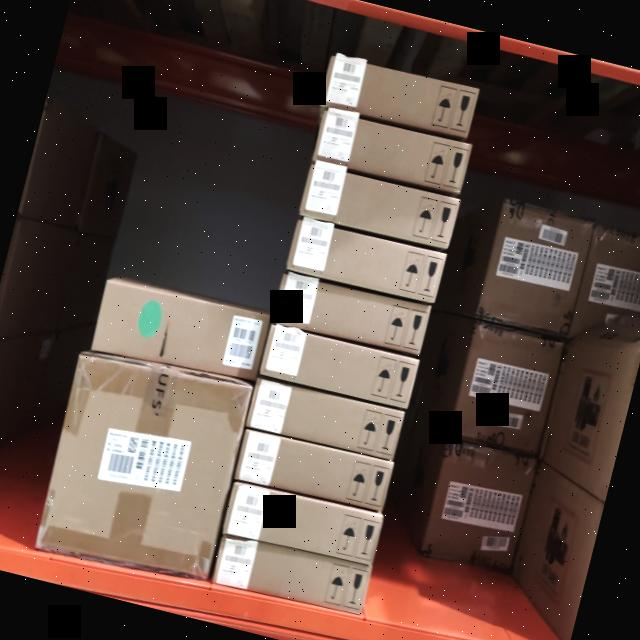box: (35, 354, 252, 584), (92, 279, 268, 378), (480, 202, 592, 334), (318, 52, 481, 140), (298, 163, 460, 250), (285, 220, 446, 302), (425, 445, 535, 563), (452, 326, 560, 446), (236, 430, 393, 512), (274, 274, 432, 354), (247, 378, 404, 458), (313, 113, 470, 192), (261, 324, 419, 402), (223, 486, 383, 560), (212, 538, 370, 612)
